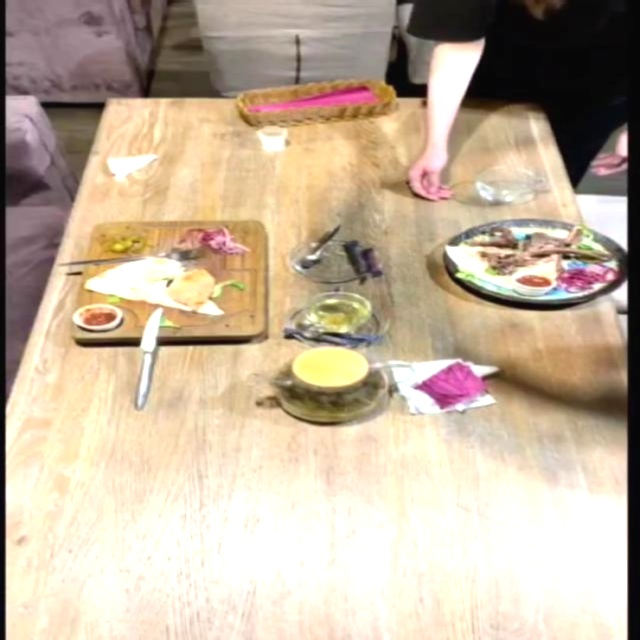meat: (424, 205, 640, 327), (69, 218, 270, 341)
tea: (244, 339, 425, 425)
